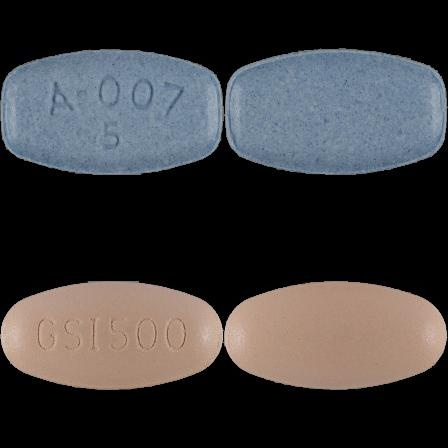68151-4982: (0, 0, 224, 224)
